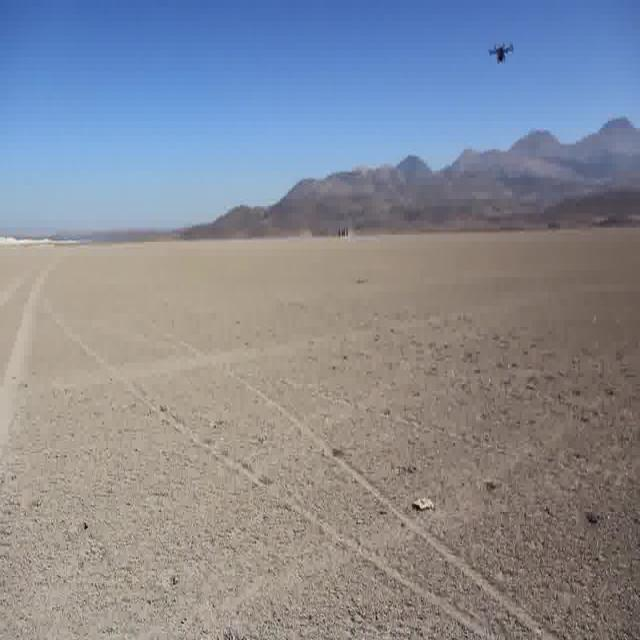drones: (483, 32, 517, 72)
